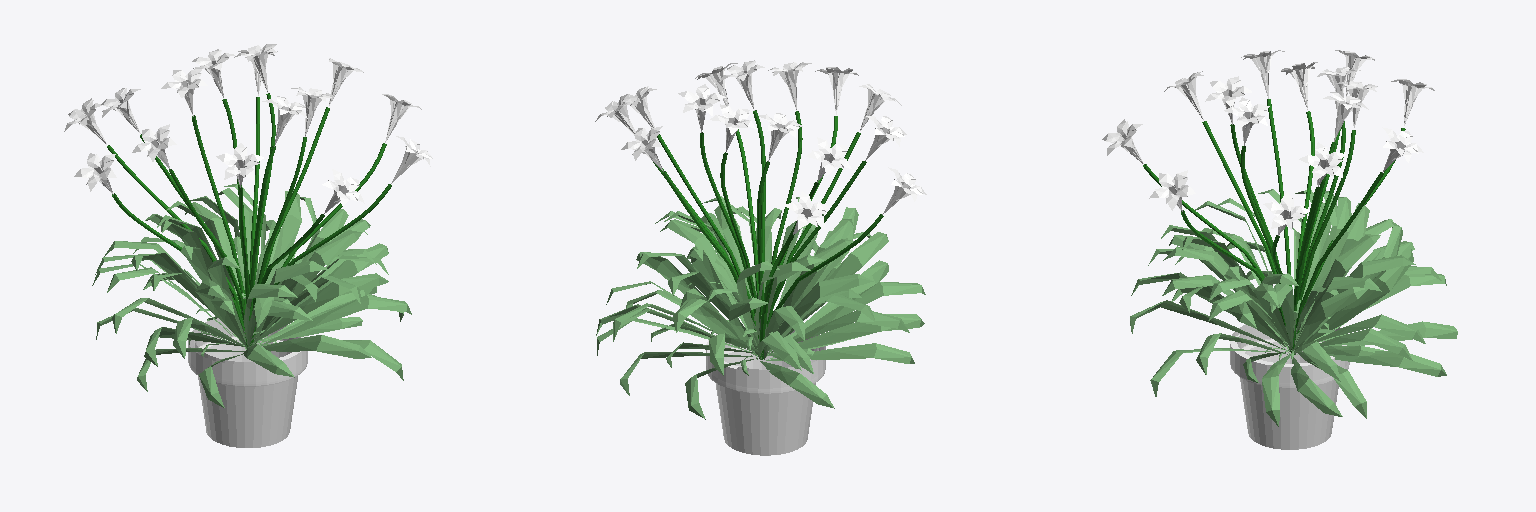
Rendered from flower9.obj.
The picture shows the model from 3 angles: view 1: azimuth 30°, elevation 25°; view 2: azimuth 150°, elevation 25°; view 3: azimuth 270°, elevation 25°; orthographic projection.
Parts seen in each view (by area): view 1: Obj_000003, Obj_000001, Obj_000004, Obj_000002; view 2: Obj_000003, Obj_000001, Obj_000004, Obj_000002; view 3: Obj_000003, Obj_000001, Obj_000002, Obj_000004.
Boxes of the visible parts, box(x1,y1,x2,y2) form: Obj_000003: box(92, 184, 411, 407); Obj_000001: box(64, 44, 432, 213); Obj_000004: box(188, 318, 307, 447); Obj_000002: box(107, 93, 391, 346); Obj_000003: box(596, 196, 925, 419); Obj_000001: box(595, 60, 926, 234); Obj_000004: box(706, 324, 825, 455); Obj_000002: box(653, 110, 883, 359); Obj_000003: box(1130, 189, 1457, 426); Obj_000001: box(1102, 50, 1434, 235); Obj_000002: box(1143, 99, 1405, 354); Obj_000004: box(1230, 324, 1349, 449).
Size of the model in its own units: 66.44 by 68.49 by 62.3.